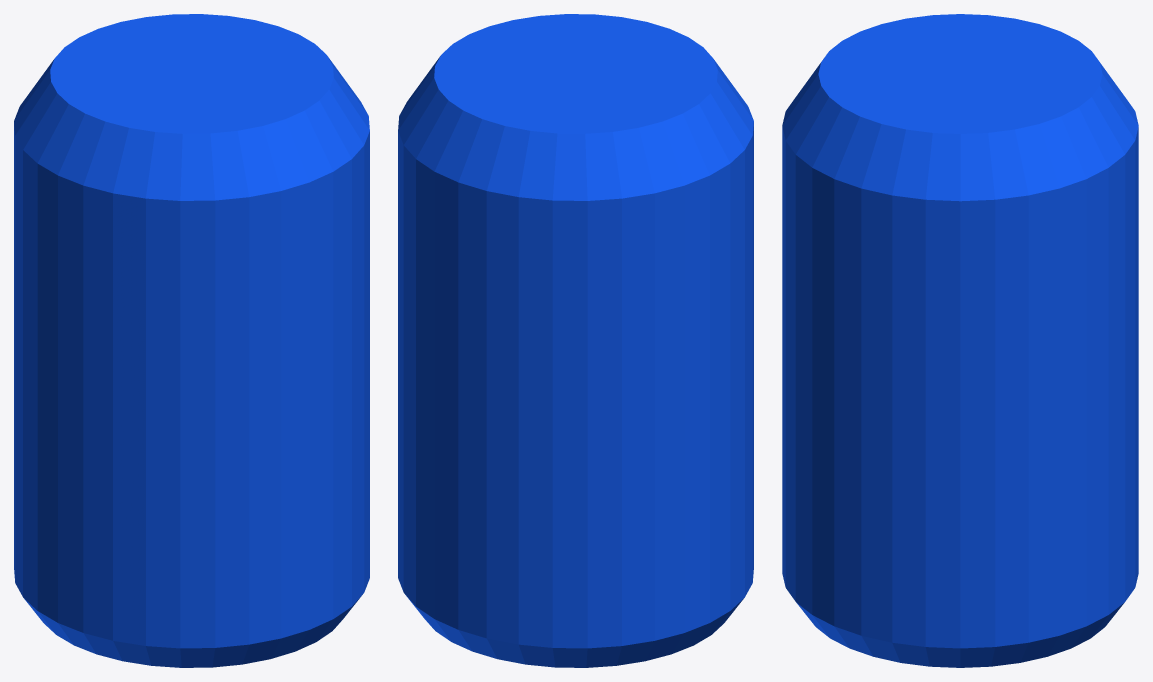
File: barrel_220l.dae
The picture shows the model from 3 angles, left to right: view 1: azimuth 30°, elevation 25°; view 2: azimuth 150°, elevation 25°; view 3: azimuth 270°, elevation 25°; orthographic projection.
Parts seen in each view (by area): view 1: Cylinder; view 2: Cylinder; view 3: Cylinder.
Boxes of the visible parts, bbox=[...] form: Cylinder: bbox=[14, 14, 369, 667]; Cylinder: bbox=[398, 14, 753, 667]; Cylinder: bbox=[782, 14, 1138, 667].
Bounding box in the file's own units: 0.6 × 0.6 × 0.98.
Materials: 1 (1 with a texture image).
